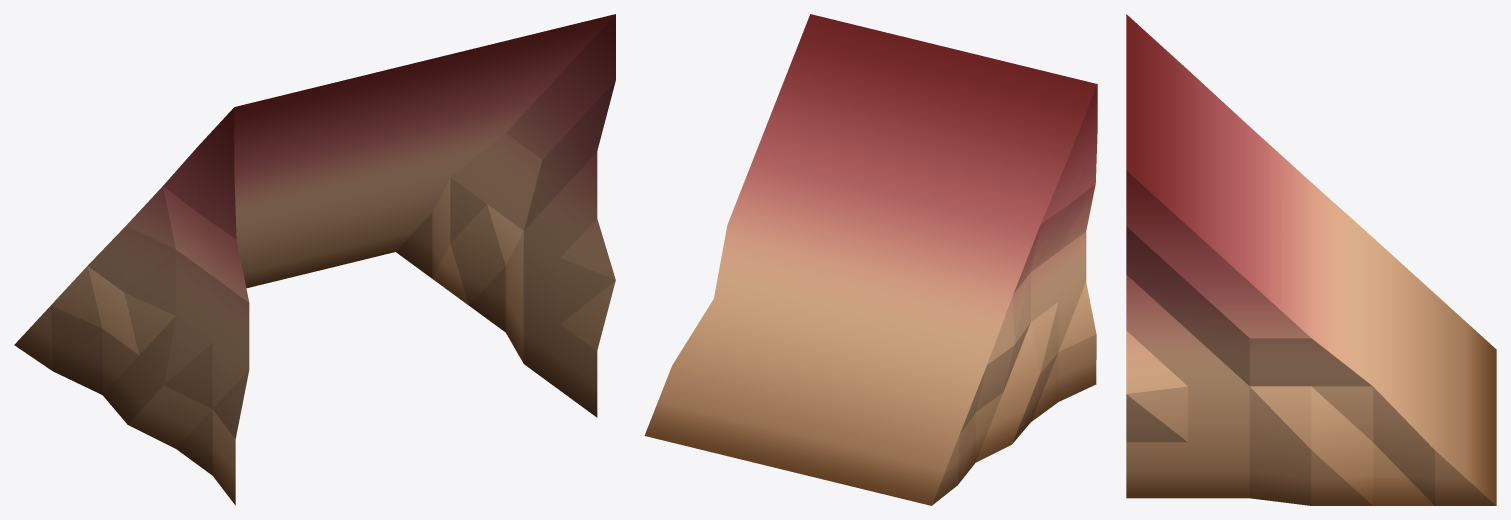
File: ramp4.001.fbx
The picture shows the model from 3 angles, left to right: view 1: azimuth 30°, elevation 25°; view 2: azimuth 150°, elevation 25°; view 3: azimuth 270°, elevation 25°; orthographic projection. The views are drawn at different scales.
Parts seen in each view (by area): view 1: ramp4.001; view 2: ramp4.001; view 3: ramp4.001.
Part boxes in pixels (x1,y1,x2,y2): ramp4.001: (14, 14, 615, 505); ramp4.001: (644, 14, 1097, 505); ramp4.001: (1126, 14, 1496, 505).
Bounding box in the file's own units: 100 × 100 × 100.
